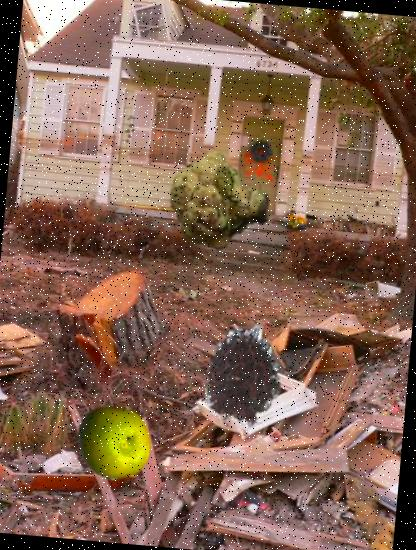Cauliflower: (166, 146, 272, 252)
Pomelo: (73, 402, 155, 484)
Rambutan: (183, 320, 300, 437)
